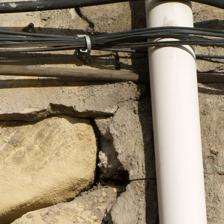Crack: (0, 19, 73, 114), (15, 21, 83, 100), (0, 104, 50, 136), (0, 28, 78, 47)
